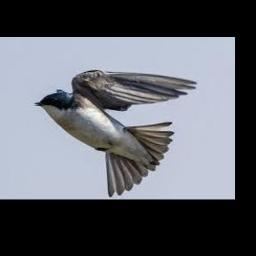Swallow: (35, 70, 197, 196)
